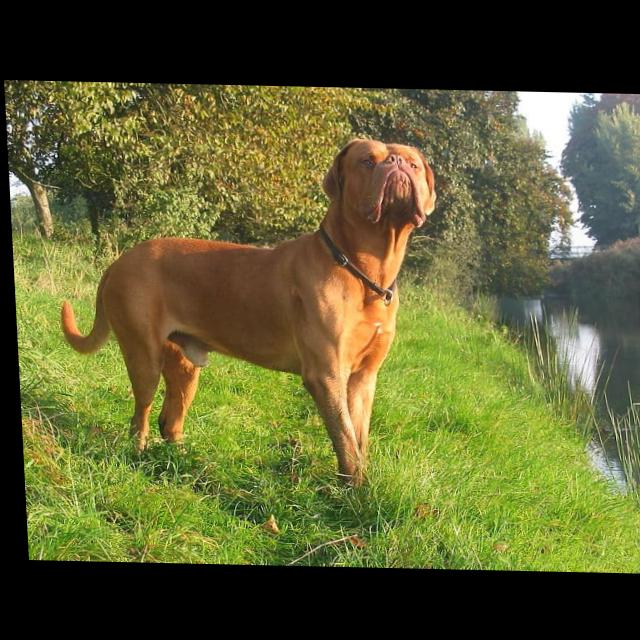dogue_de_bordeaux: (51, 132, 448, 490)
